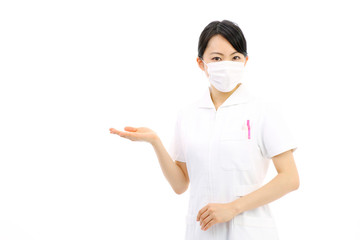mask: (203, 62, 245, 93)
